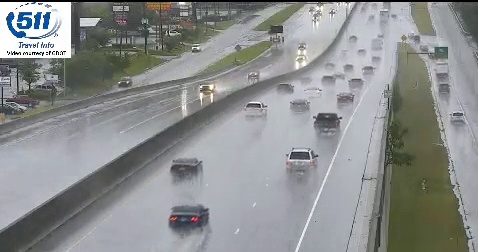car: (169, 205, 209, 229), (287, 149, 316, 172), (171, 158, 202, 178), (314, 113, 340, 133), (244, 101, 266, 116)
